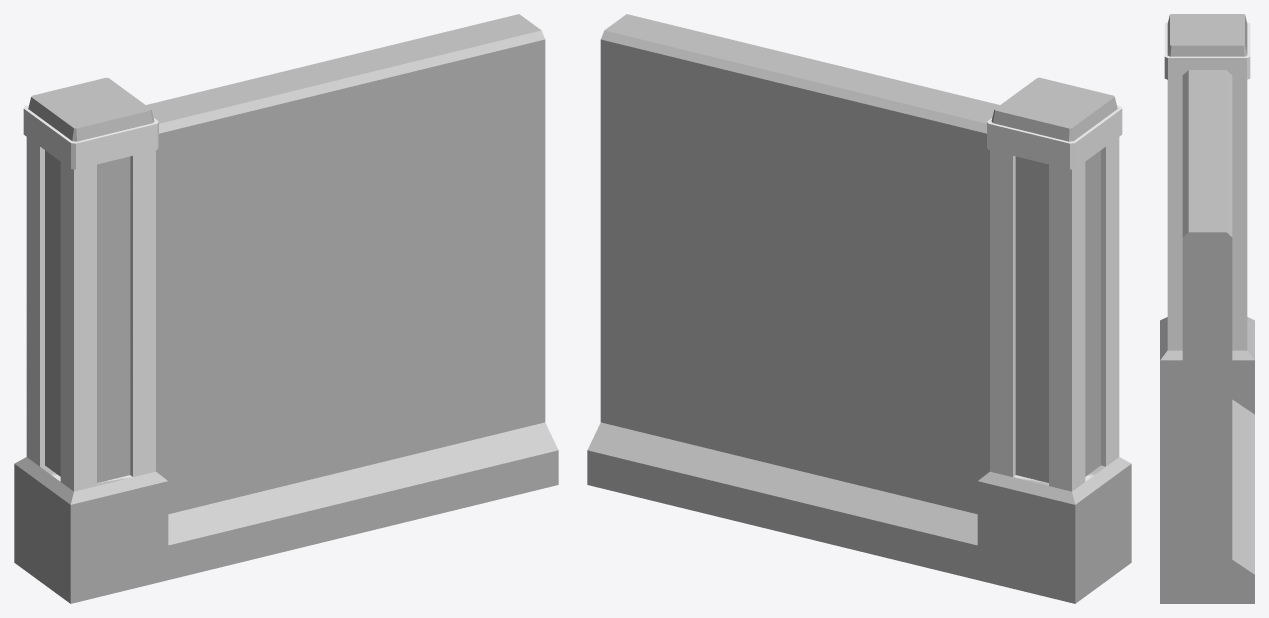
File: BigWall_02.fbx
The picture shows the model from 3 angles, left to right: view 1: azimuth 30°, elevation 25°; view 2: azimuth 150°, elevation 25°; view 3: azimuth 270°, elevation 25°; orthographic projection. The views are drawn at different scales.
Parts seen in each view (by area): view 1: BigWall_02; view 2: BigWall_02; view 3: BigWall_02.
Part boxes in pixels (<box>): BigWall_02: <box>14,14,558,603</box>; BigWall_02: <box>587,14,1131,603</box>; BigWall_02: <box>1160,14,1254,603</box>.
Size of the model in its own units: 305 by 280 by 61.03.
